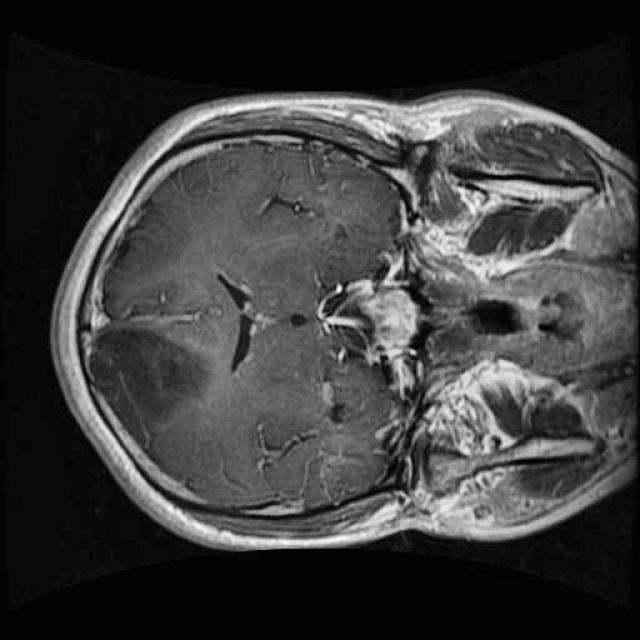Non-Tumor: (68, 302, 229, 456)
